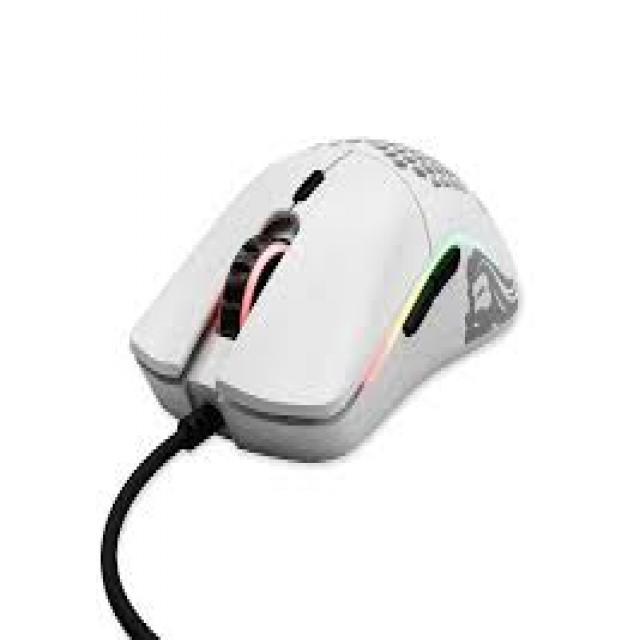others: (127, 122, 561, 487)
